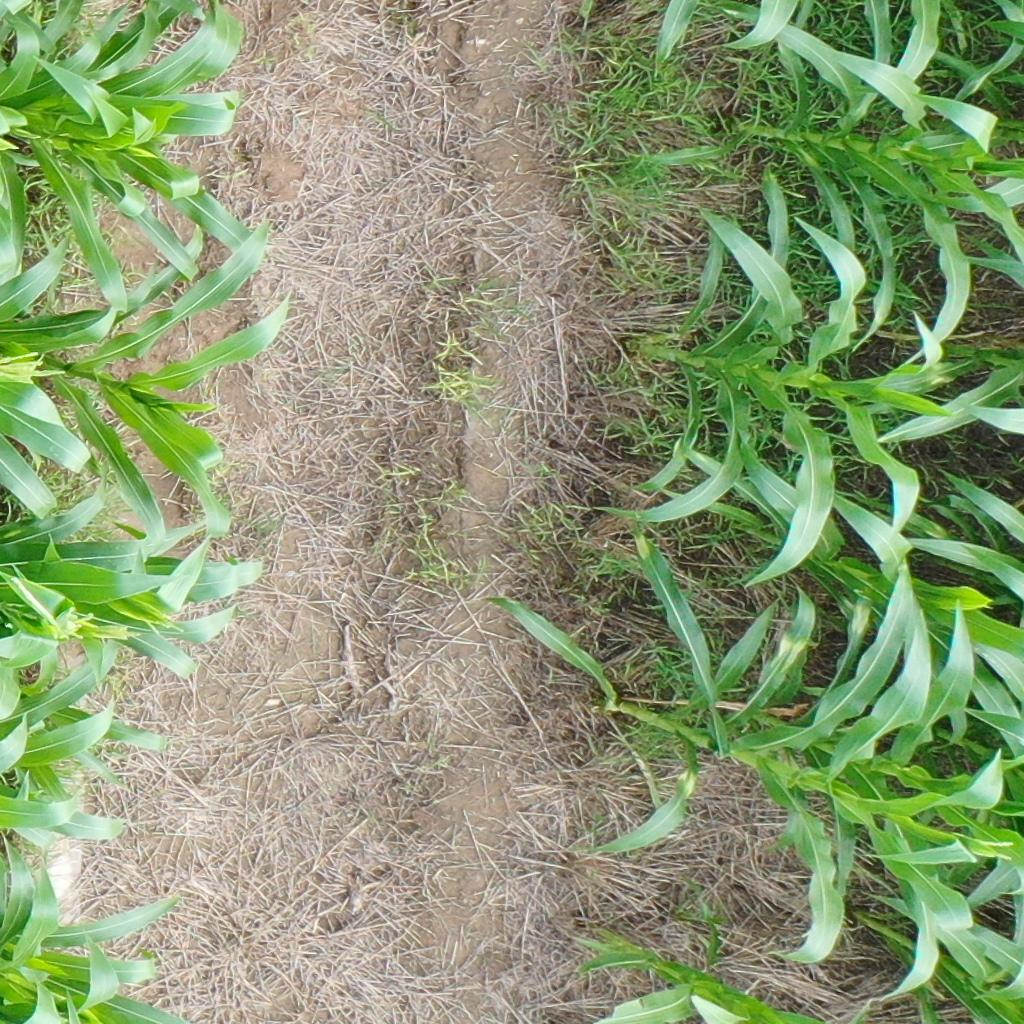Tassel: (7, 577, 141, 653), (1, 351, 70, 385), (953, 829, 1015, 866), (144, 601, 184, 640)
